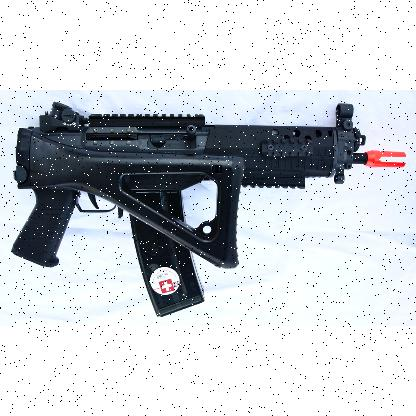gun: (11, 100, 406, 316), (12, 100, 406, 316)
